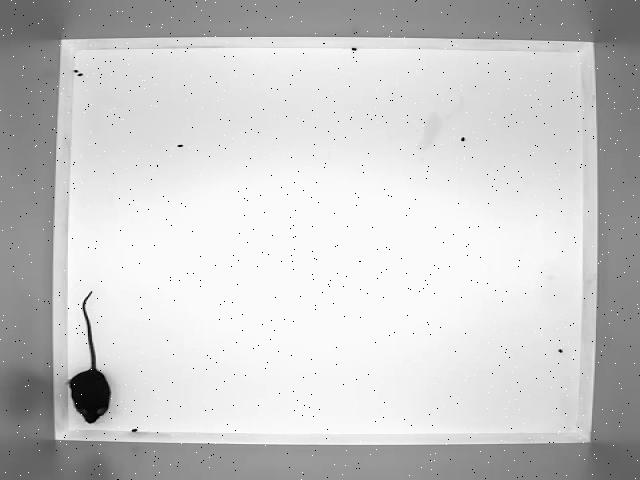Tikus: (70, 289, 136, 425)
